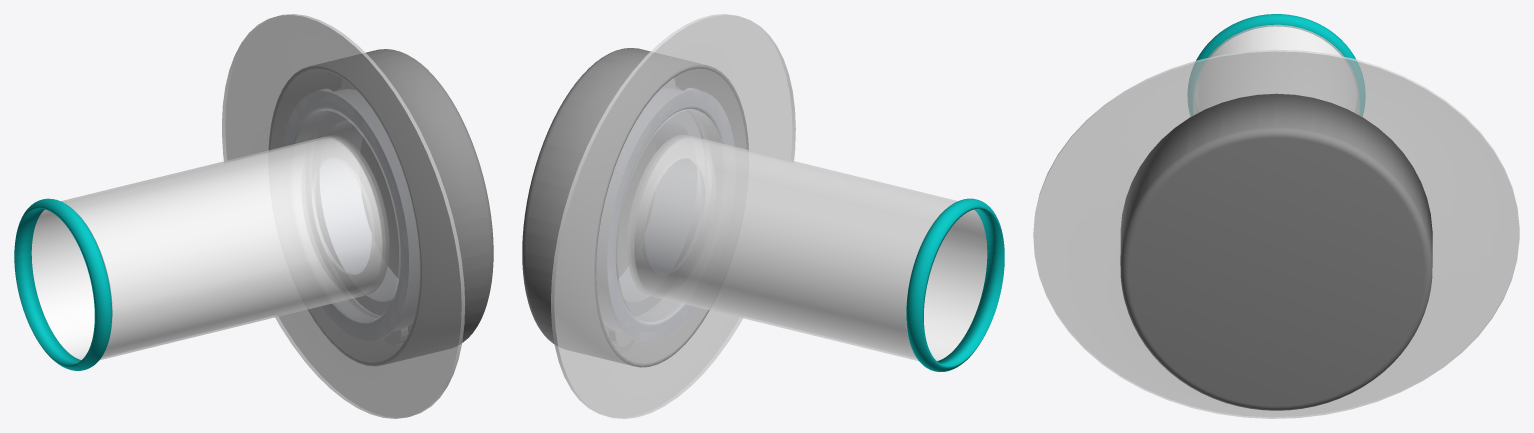
File: continent_collapsed_smoothed.glb
The picture shows the model from 3 angles, left to right: view 1: azimuth 30°, elevation 25°; view 2: azimuth 150°, elevation 25°; view 3: azimuth 270°, elevation 25°; orthographic projection.
Visible parts, largest first — view 1: Separator.001, Separator.006, Separator.005, Separator.003, Separator.002; view 2: Separator.001, Separator.006, Separator.005, Separator.003, Separator.002; view 3: Separator.005, Separator.006, Separator.001, Separator.002.
Boxes of the visible parts, box(x1,y1,x2,y2) form: Separator.001: box(31, 136, 388, 360); Separator.006: box(222, 14, 465, 418); Separator.005: box(268, 49, 493, 366); Separator.003: box(282, 89, 419, 340); Separator.002: box(14, 198, 112, 370); Separator.001: box(627, 135, 987, 361); Separator.006: box(551, 14, 795, 418); Separator.005: box(522, 48, 748, 367); Separator.003: box(596, 88, 734, 341); Separator.002: box(906, 198, 1004, 371); Separator.005: box(1120, 93, 1432, 410); Separator.006: box(1033, 49, 1519, 418); Separator.001: box(1194, 24, 1358, 114); Separator.002: box(1187, 14, 1365, 116).
Bounding box in the file's own units: 10.54 × 10 × 12.
